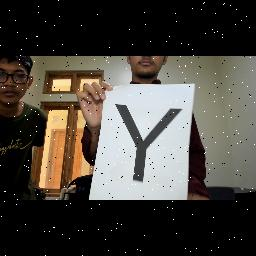y: (110, 101, 184, 187)
